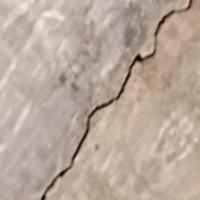crack: (38, 0, 192, 199)
